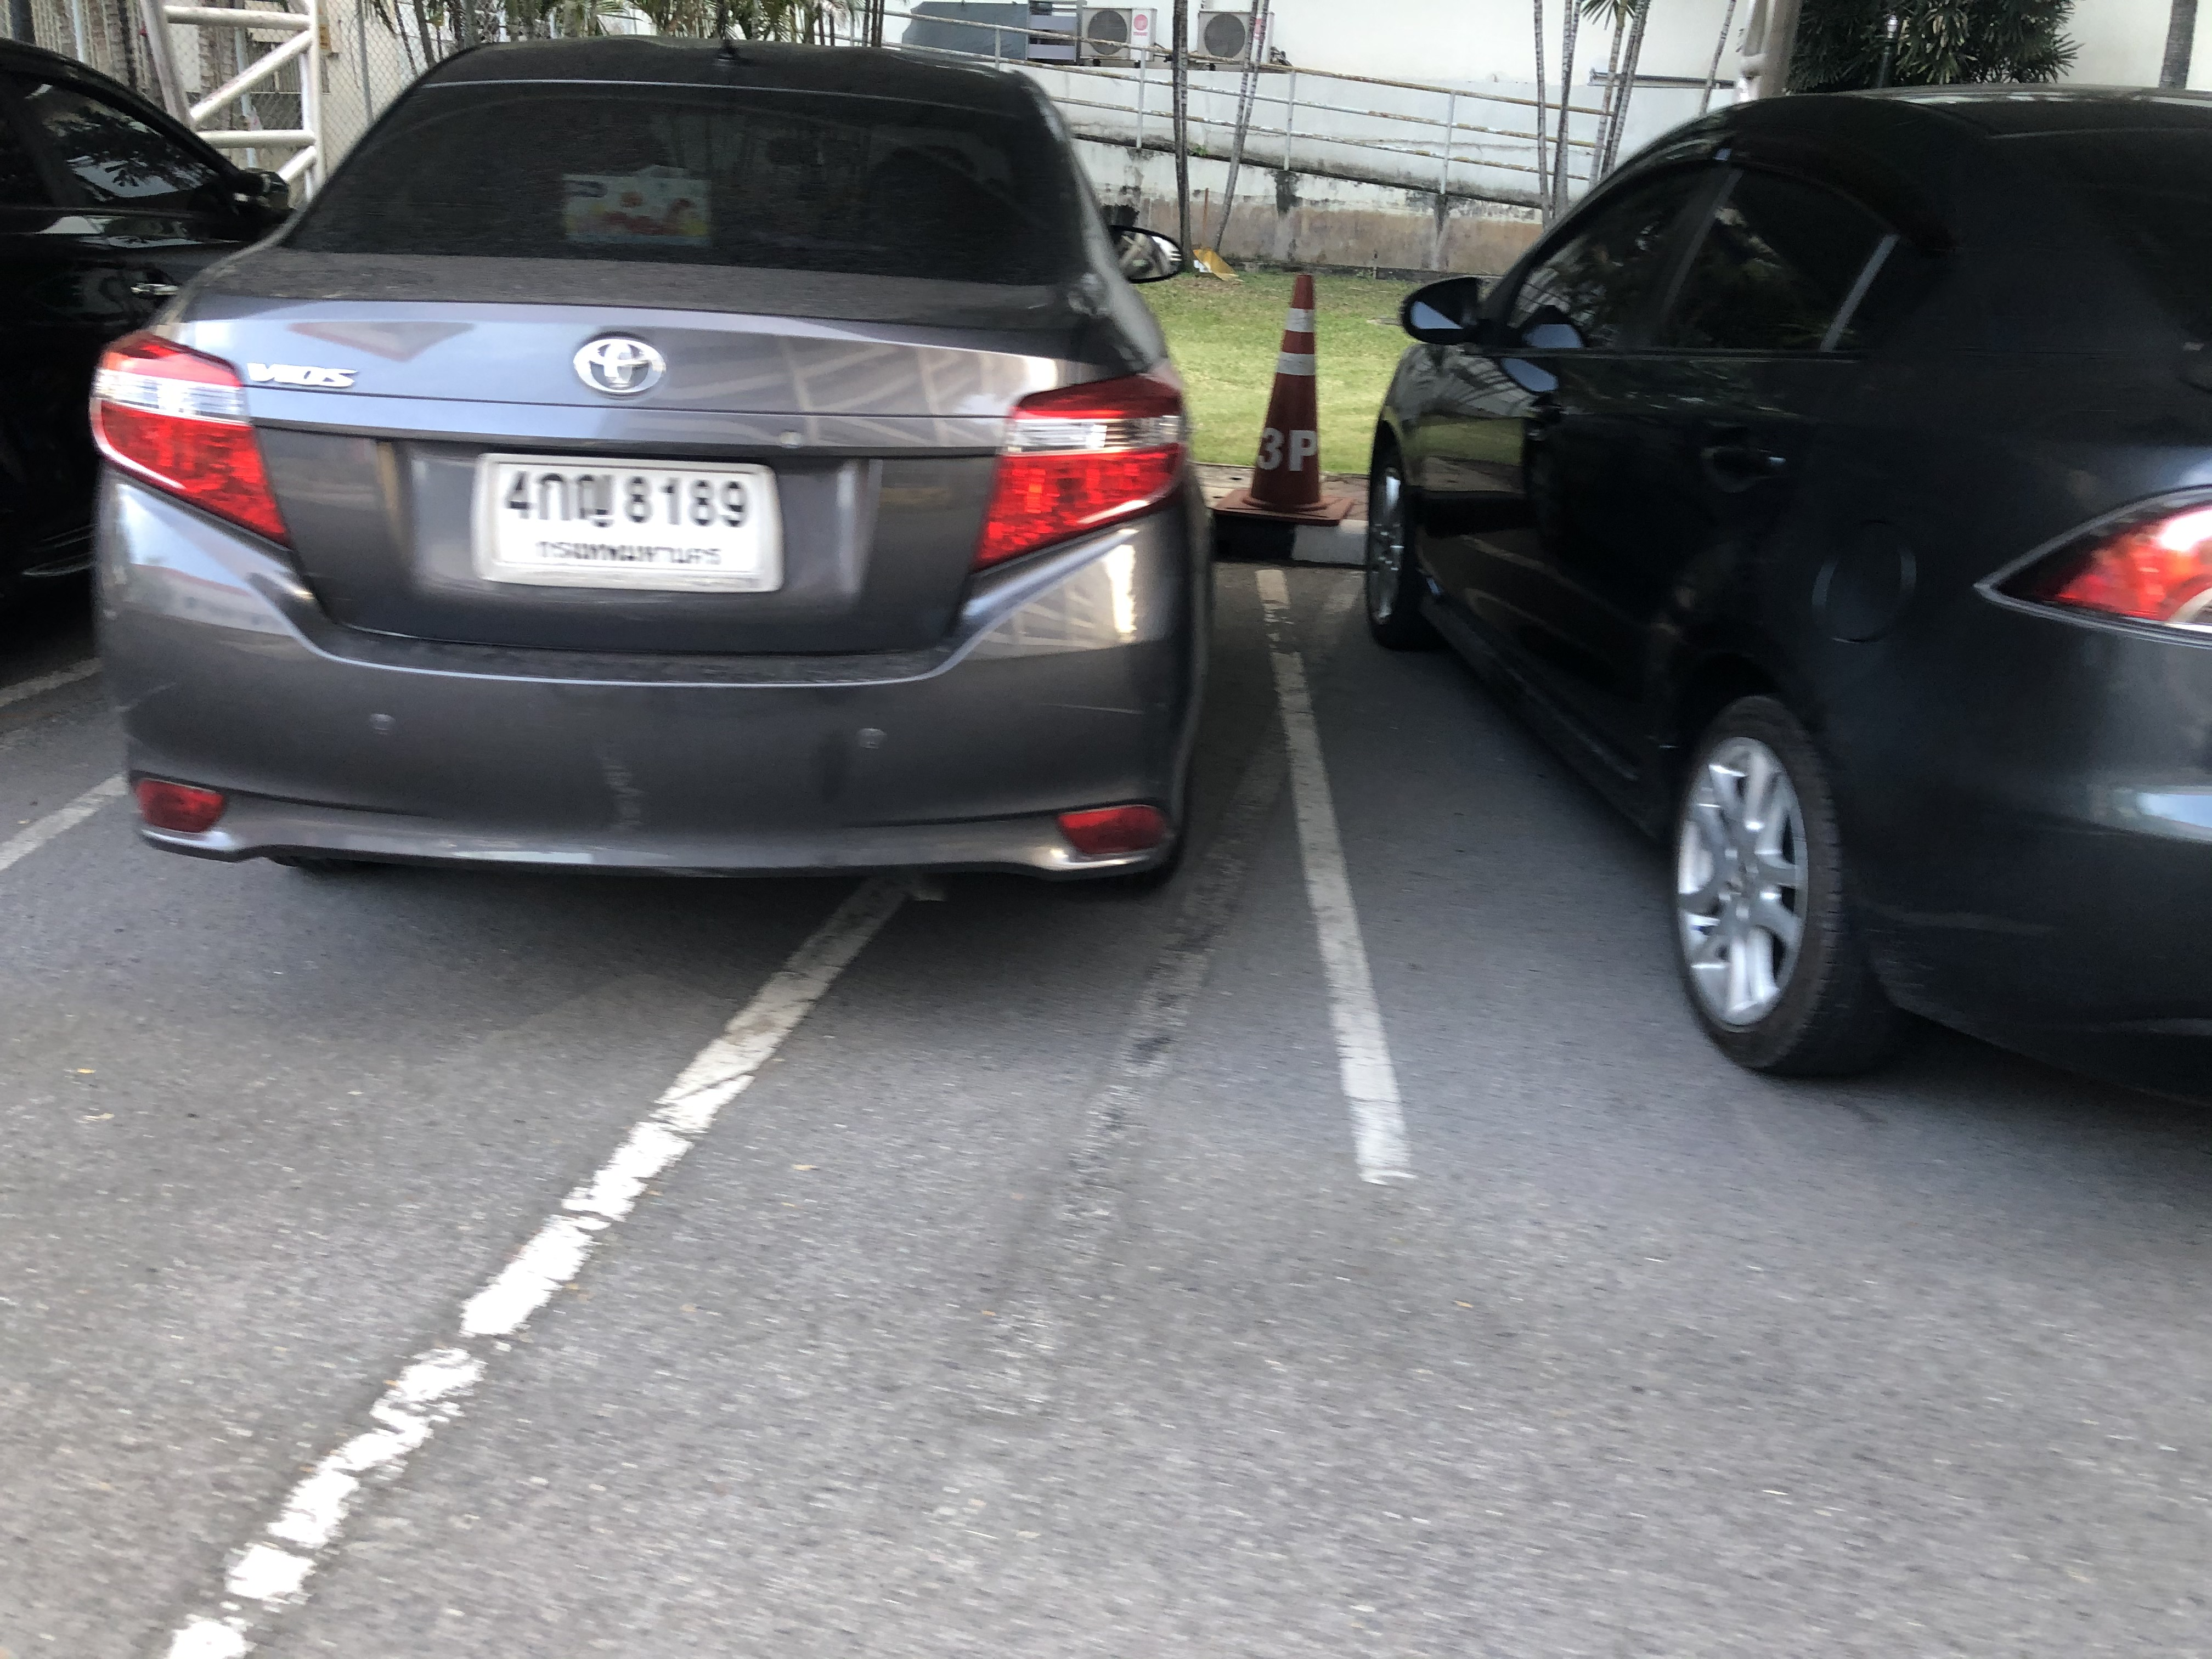in: (491, 460, 763, 584)
out: (463, 441, 782, 605)
